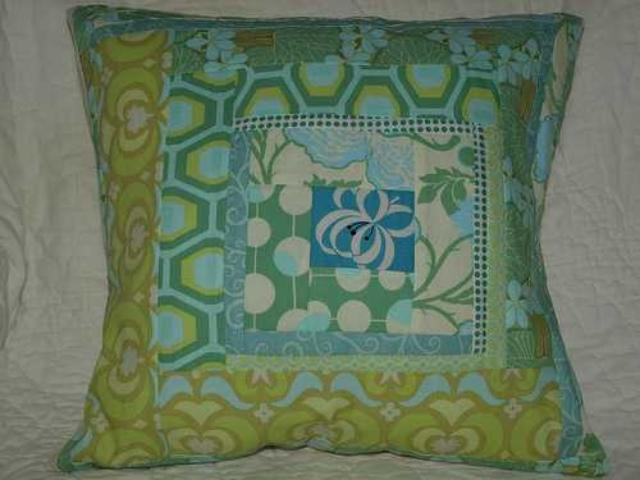pillow: (56, 4, 608, 476)
